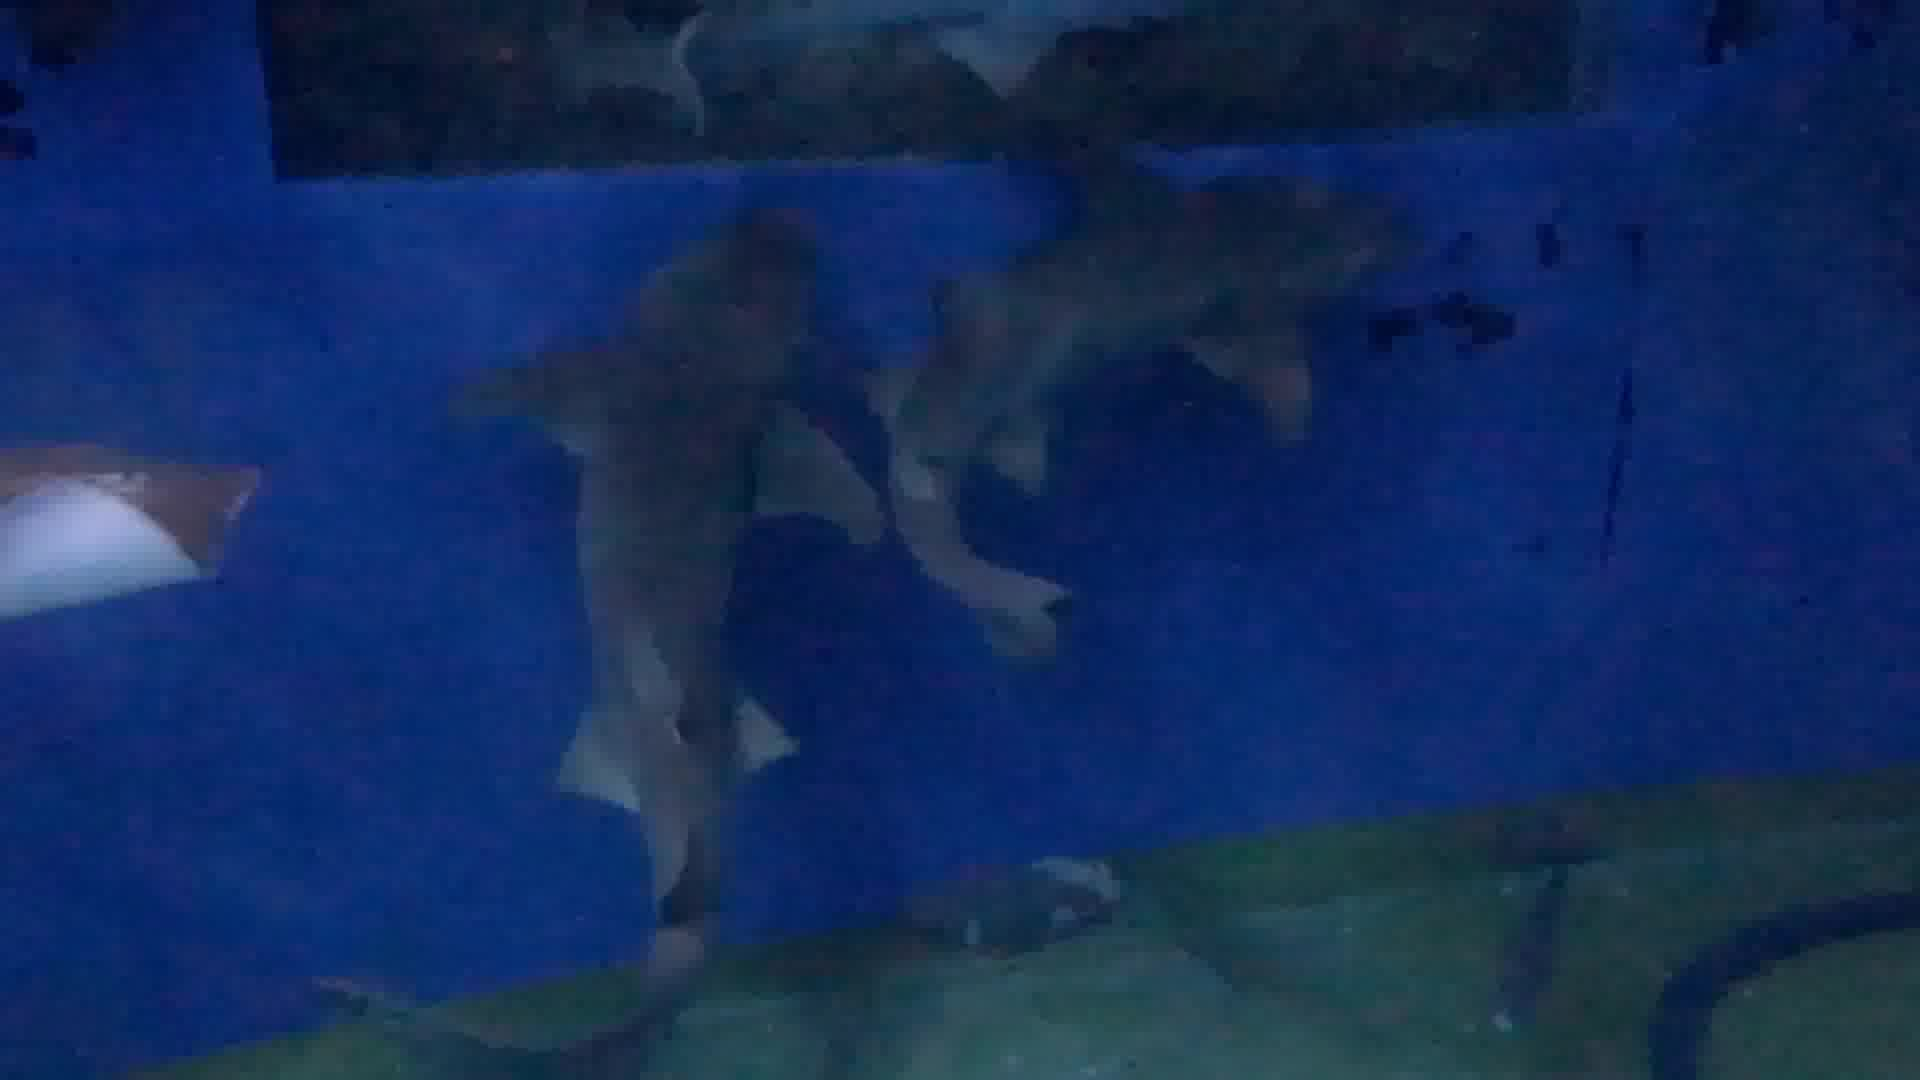Nebrius ferrugineus: (922, 127, 1443, 622), (560, 193, 839, 906)
